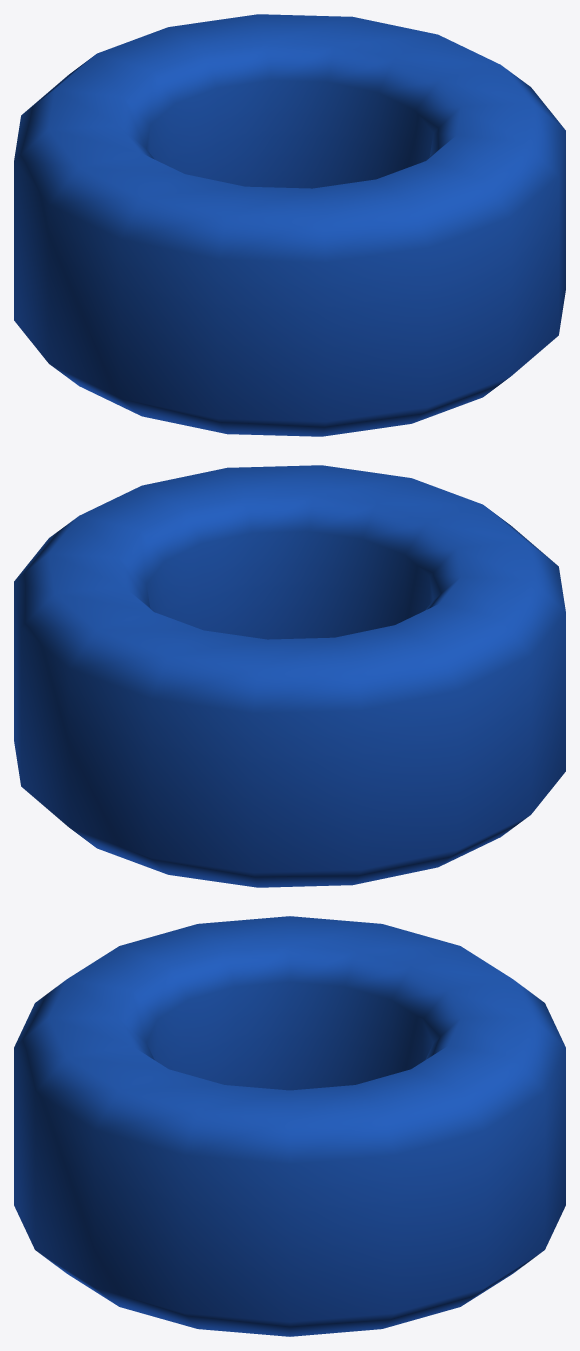
The model's file is Barrier_Wheel_01.fbx.
3 renders of one model, top to bottom at view 1: azimuth 30°, elevation 25°; view 2: azimuth 150°, elevation 25°; view 3: azimuth 270°, elevation 25°, orthographic.
Parts seen in each view (by area): view 1: Barrier_Wheel_01; view 2: Barrier_Wheel_01; view 3: Barrier_Wheel_01.
Boxes of the visible parts, x1,y1,x2,y2 form: Barrier_Wheel_01: (14,14,565,436); Barrier_Wheel_01: (14,465,565,887); Barrier_Wheel_01: (14,916,565,1336).
Bounding box in the file's own units: 100 × 100 × 43.33.
